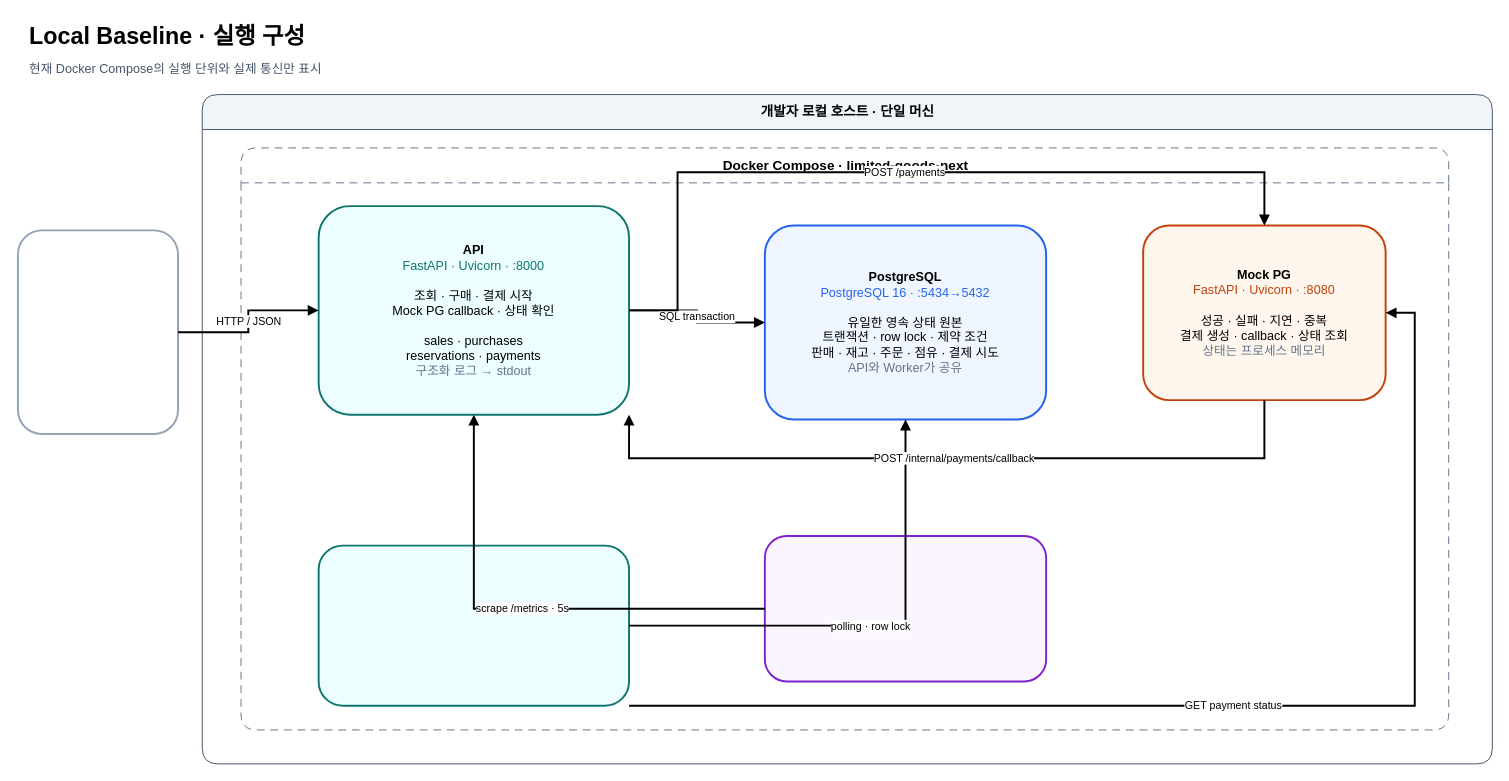
The diagram is 1509 pixels wide and 781 high, and some of its shapes have lost their labels. Here are the shapes that lost their labels. From the top down, the centre of each, then its label:
At (x=97, y=332): "API 사용자 판매자 · 구매자 브라우저 UI 없음 OpenAPI / HTTP 호출 X-User-Id는 임시 경계".
At (x=473, y=625): "Worker 동일 Python 코드베이스 · 1s polling 점유 만료 결제 결과 정합성 확인 구조화 로그 → stdout".
At (x=905, y=608): "Prometheus Prometheus 2.55.1 · :9090 API /metrics만 수집 dashboard · alert 없음".
